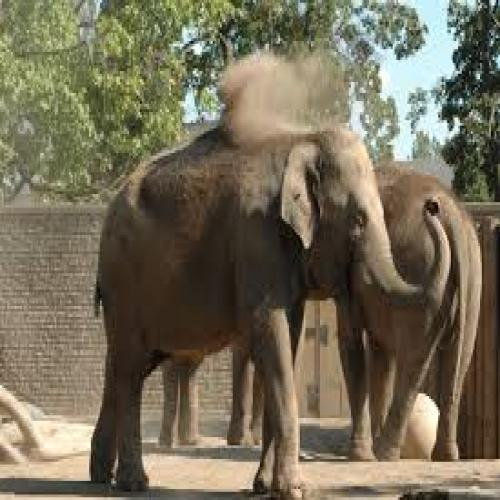asian_elephant-endangered: (96, 125, 451, 500), (334, 168, 483, 464)
